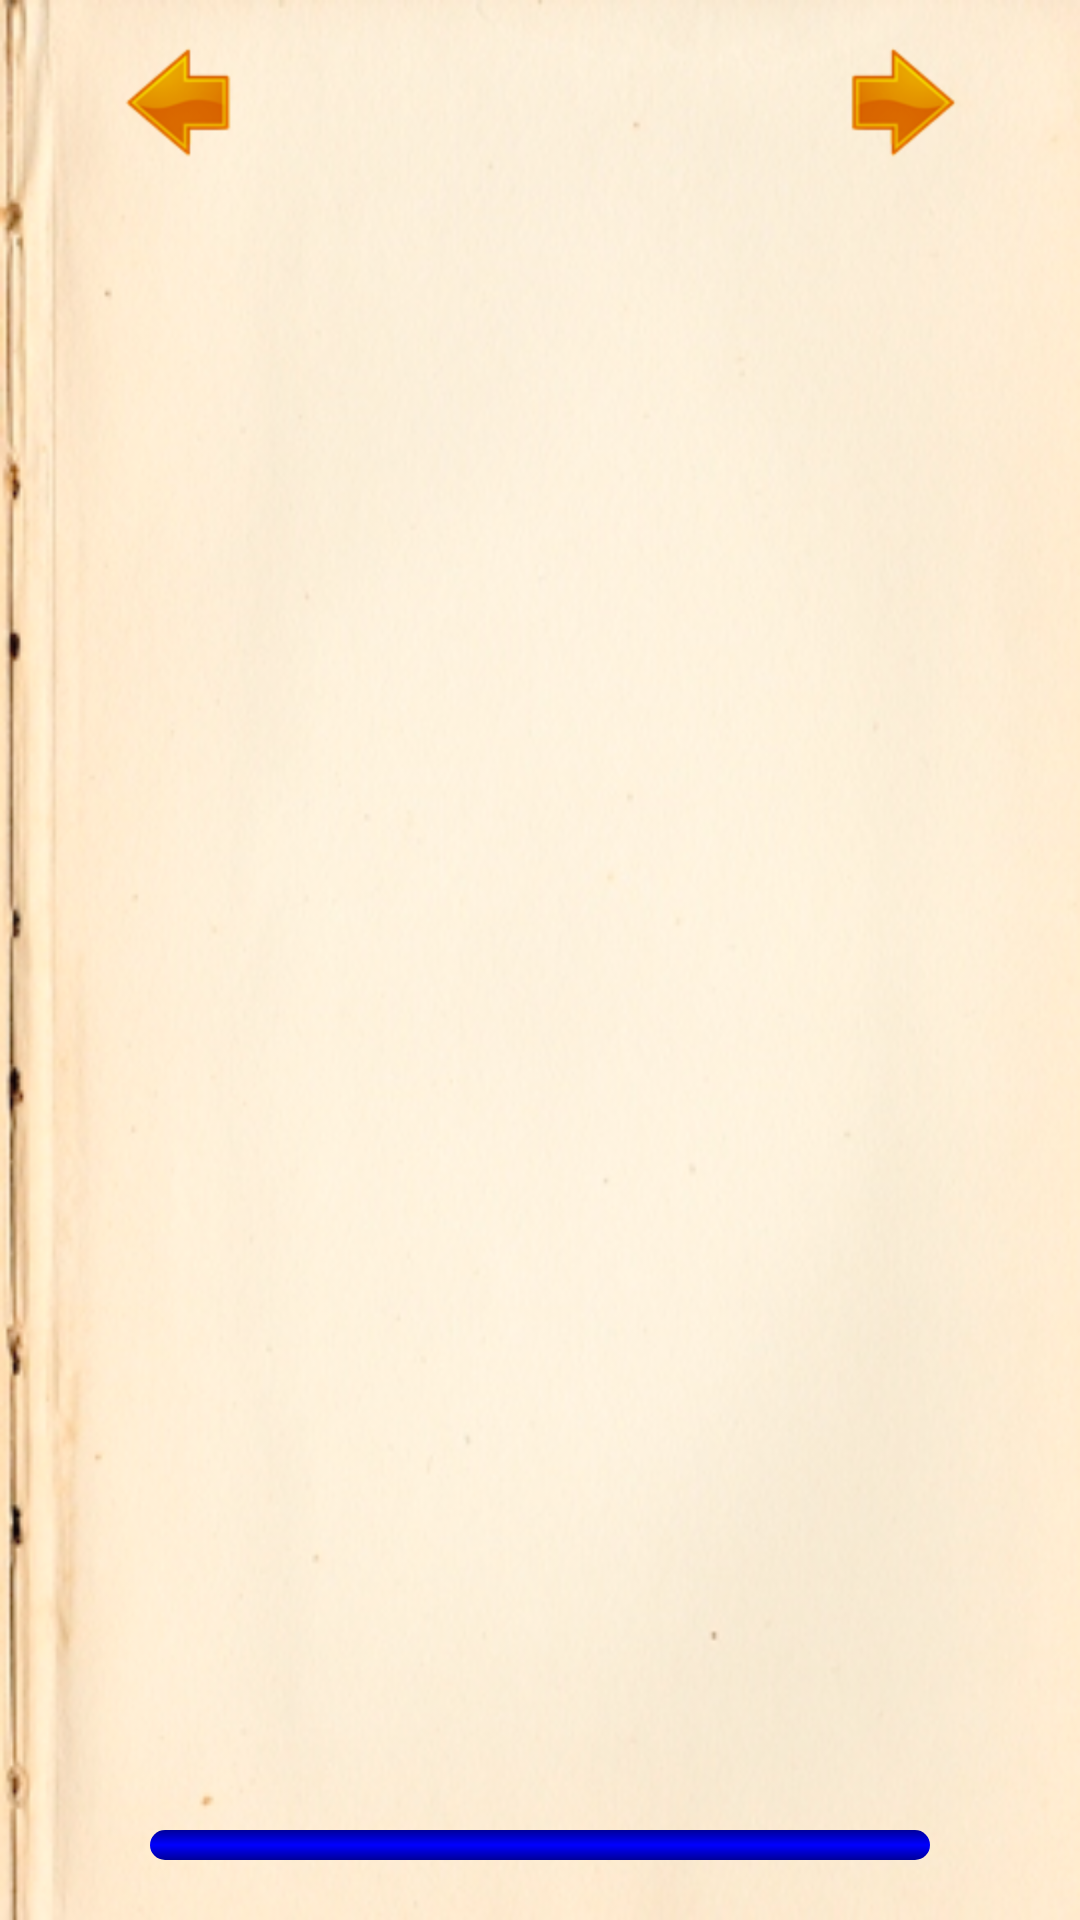

Screen size 1080px×1920px. Icon name, then its center in pixels as (x=x, y=y):
next: (x=903, y=102)
previous: (x=146, y=111)
